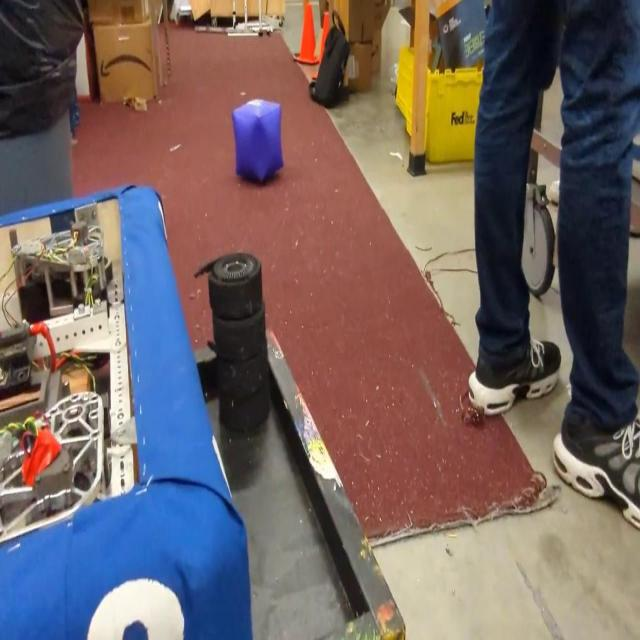frc_cube: (231, 97, 283, 187)
